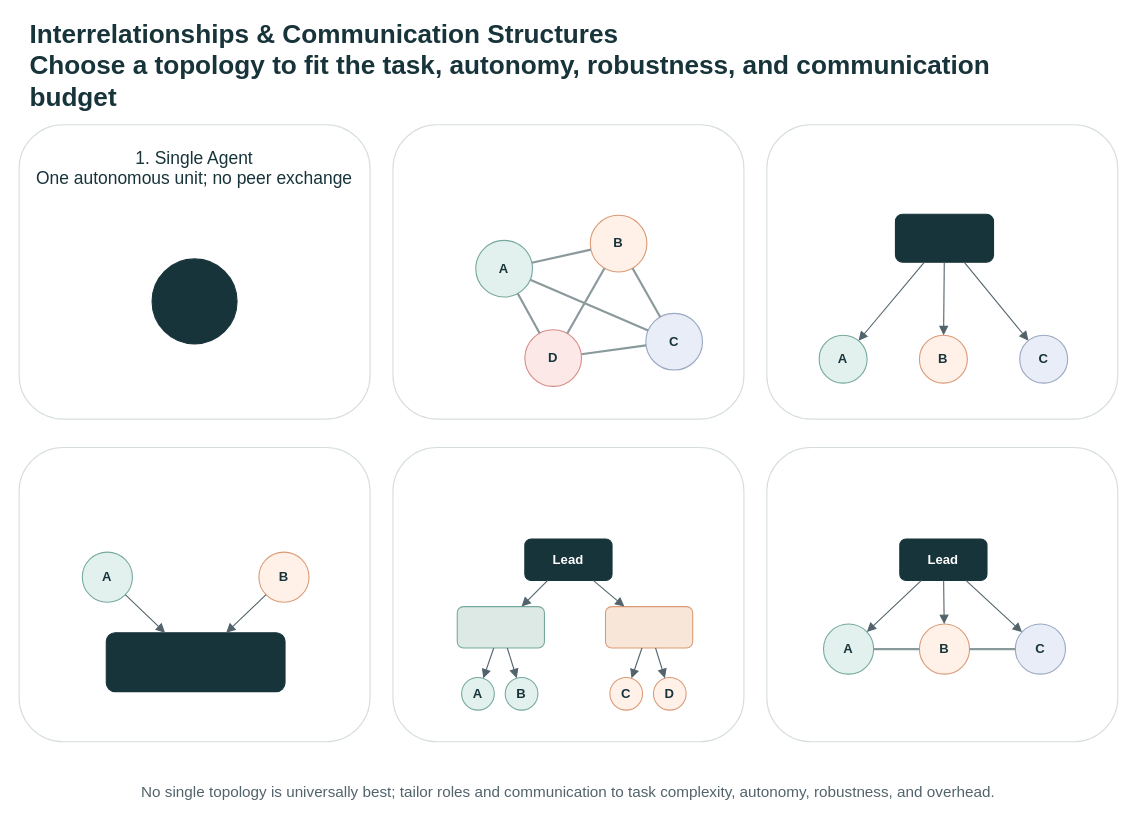
Image size: 1137x827. Some labels were removed from this diagram. The box of each missing label's shape, as (x1, y1, x2, y2) in pixels:
2. Network Peers communicate directly: (392, 124, 744, 419)
3. Supervisor Coordinator delegates and gathers: (766, 124, 1118, 419)
4. Supervisor as a Tool Agents consult a shared service: (18, 446, 370, 742)
5. Hierarchical Multiple levels of delegated coordination: (392, 446, 744, 742)
6. Custom Hybrid designed for a specific environment: (766, 446, 1118, 742)
Agent: (151, 258, 237, 344)
Supervisor: (894, 213, 994, 262)
Supervisor as a tool guidance / resources: (105, 632, 285, 692)
Team A: (456, 605, 544, 648)
Team B: (604, 605, 693, 648)
